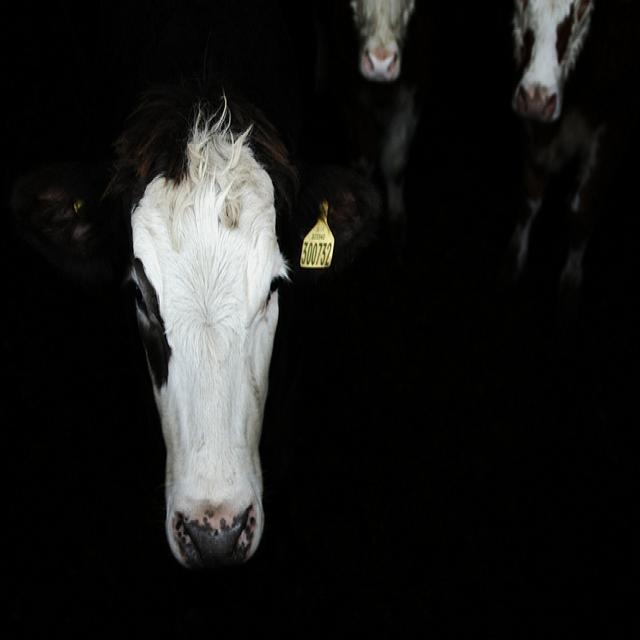cow: (2, 6, 376, 571), (504, 0, 639, 306), (344, 6, 414, 84)
